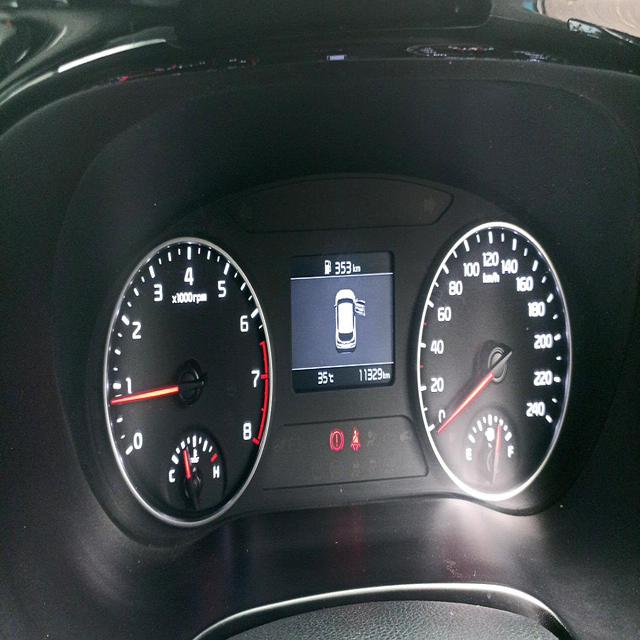odometer: (355, 361, 393, 390)
